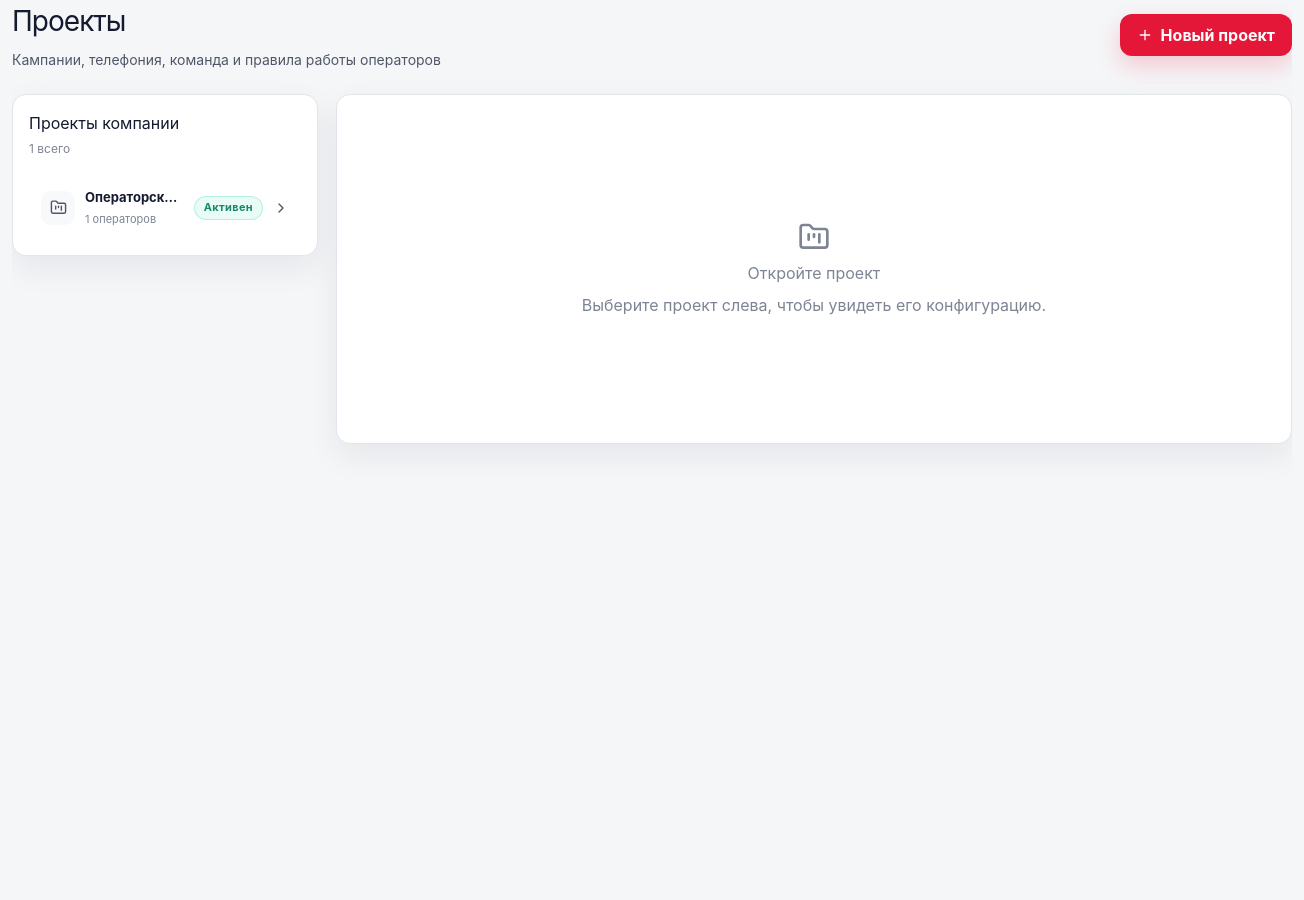
project permissions › allows owners and managers to open the full project editor
What coordinates should you click on to do the following:
click the button "Операторский проект 1 операторов Активен"
I would click on:
 (165, 208)
Its box is top-left (29, 176), bottom-right (301, 239).
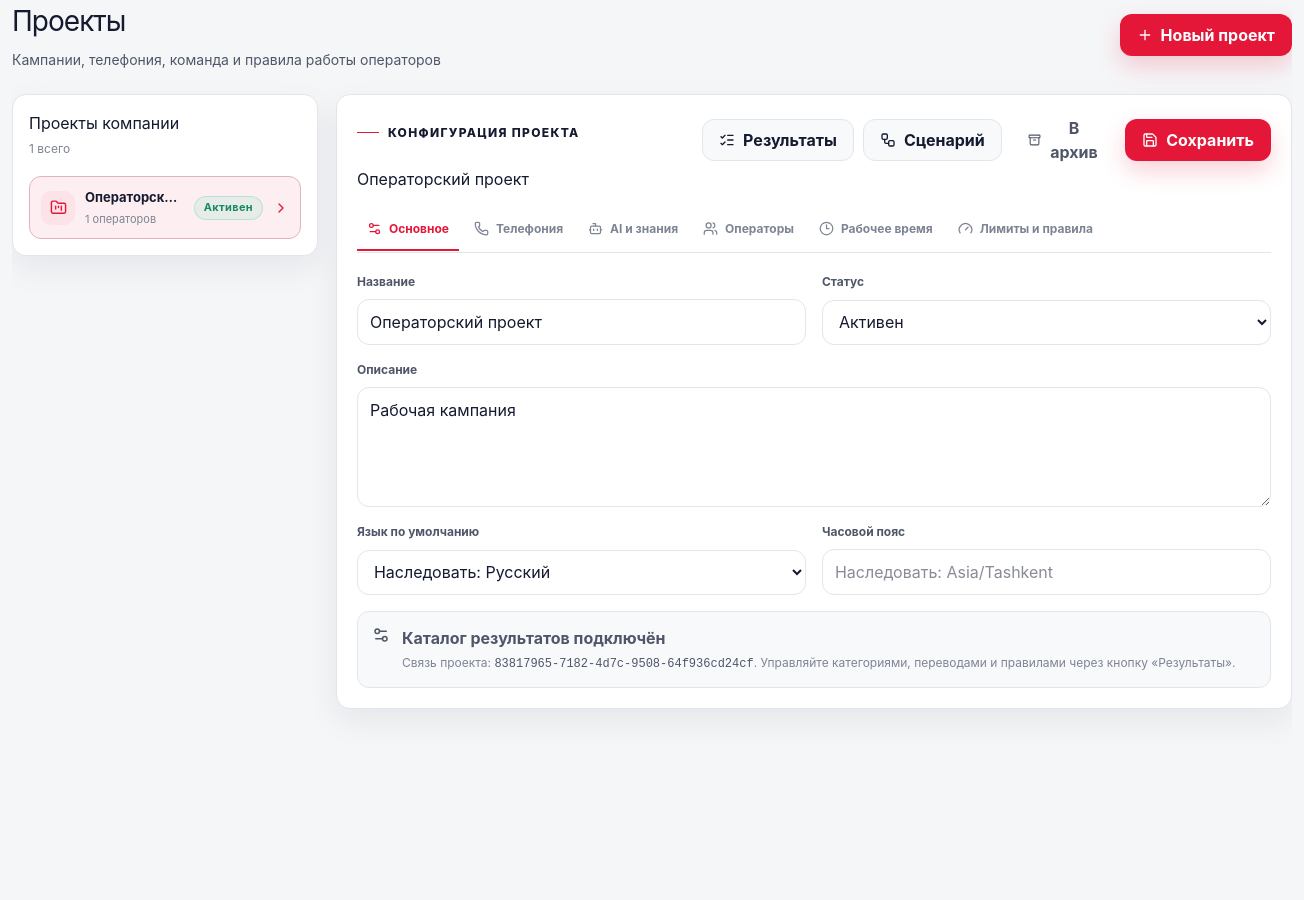
Expected: the text "Конфигурация проекта" is shown, top-left (357, 124), bottom-right (580, 142)
Expected: the button "Сохранить" is shown, top-left (1125, 119), bottom-right (1271, 161)
Expected: the button "В архив" is shown, top-left (1011, 115), bottom-right (1116, 165)
What coordinates should you click on to do the following:
click the tab "Лимиты и правила"
I would click on:
 (1025, 230)
Its box is top-left (948, 210), bottom-right (1103, 250).
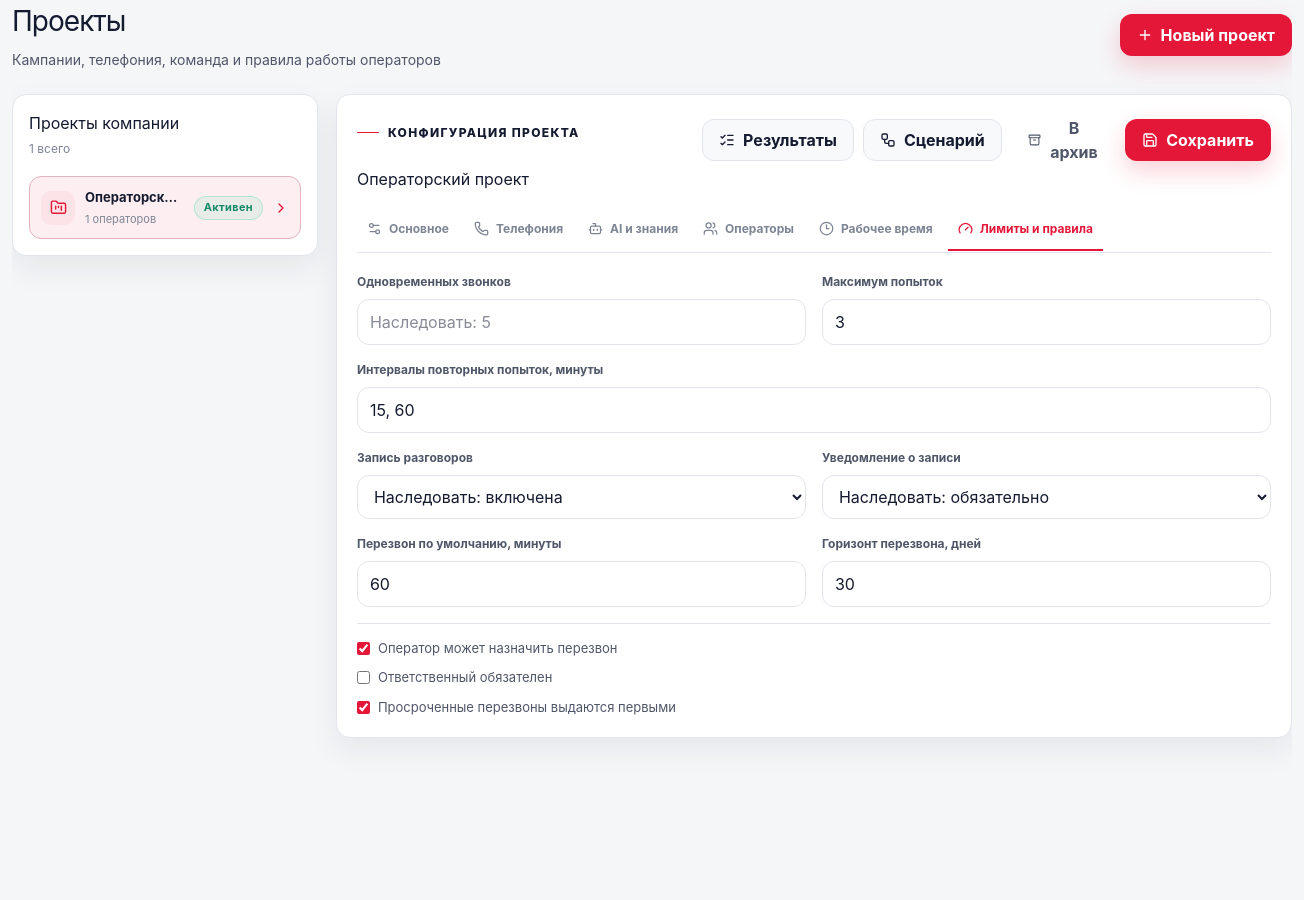
Expected: the text "Запись разговоров" is shown, top-left (357, 450), bottom-right (473, 464)
